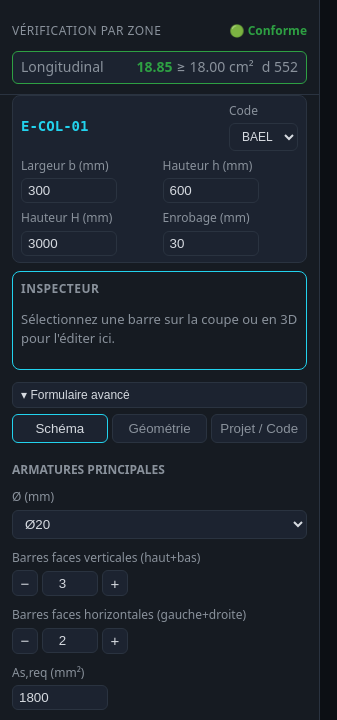
SPA panels smoke › changing the primary diameter re-solves and updates the As,prov readout live
Check: the text "18.85" is shown, box [136,57,172,78]
Select "Ø25" in the dropdown labelled "Ø (mm)" at coordinates (160, 524), box [12,510,307,539]
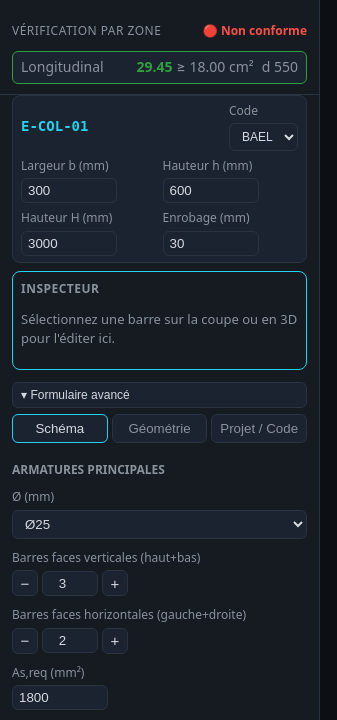
Check: the text "29.45" is shown, box [136,57,172,78]
Check: the text "18.85" is gone
